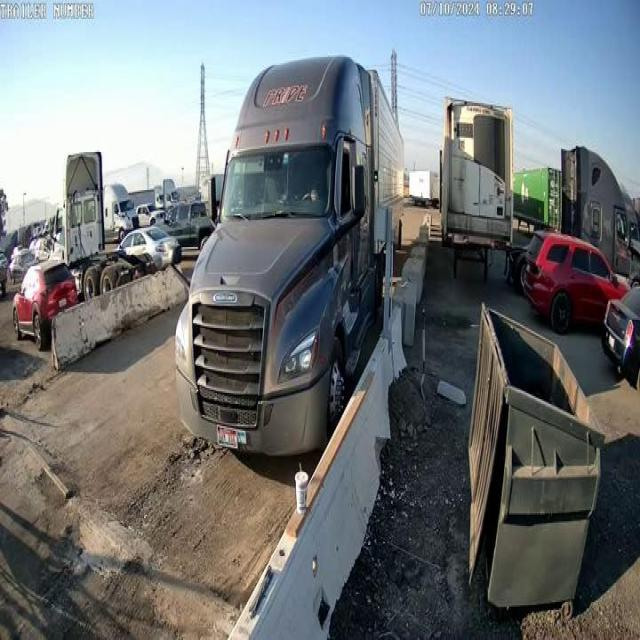TRUCK_OUT: (174, 54, 406, 459)
